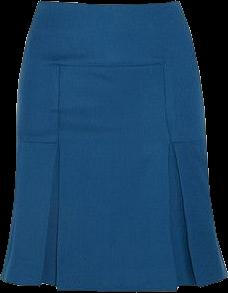Hemline: (0, 275, 227, 292)
Waistline: (37, 0, 178, 6)
